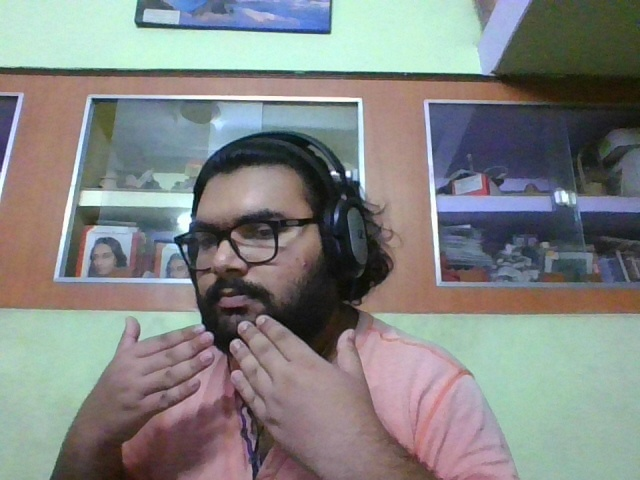thankyou: (77, 316, 409, 443)
